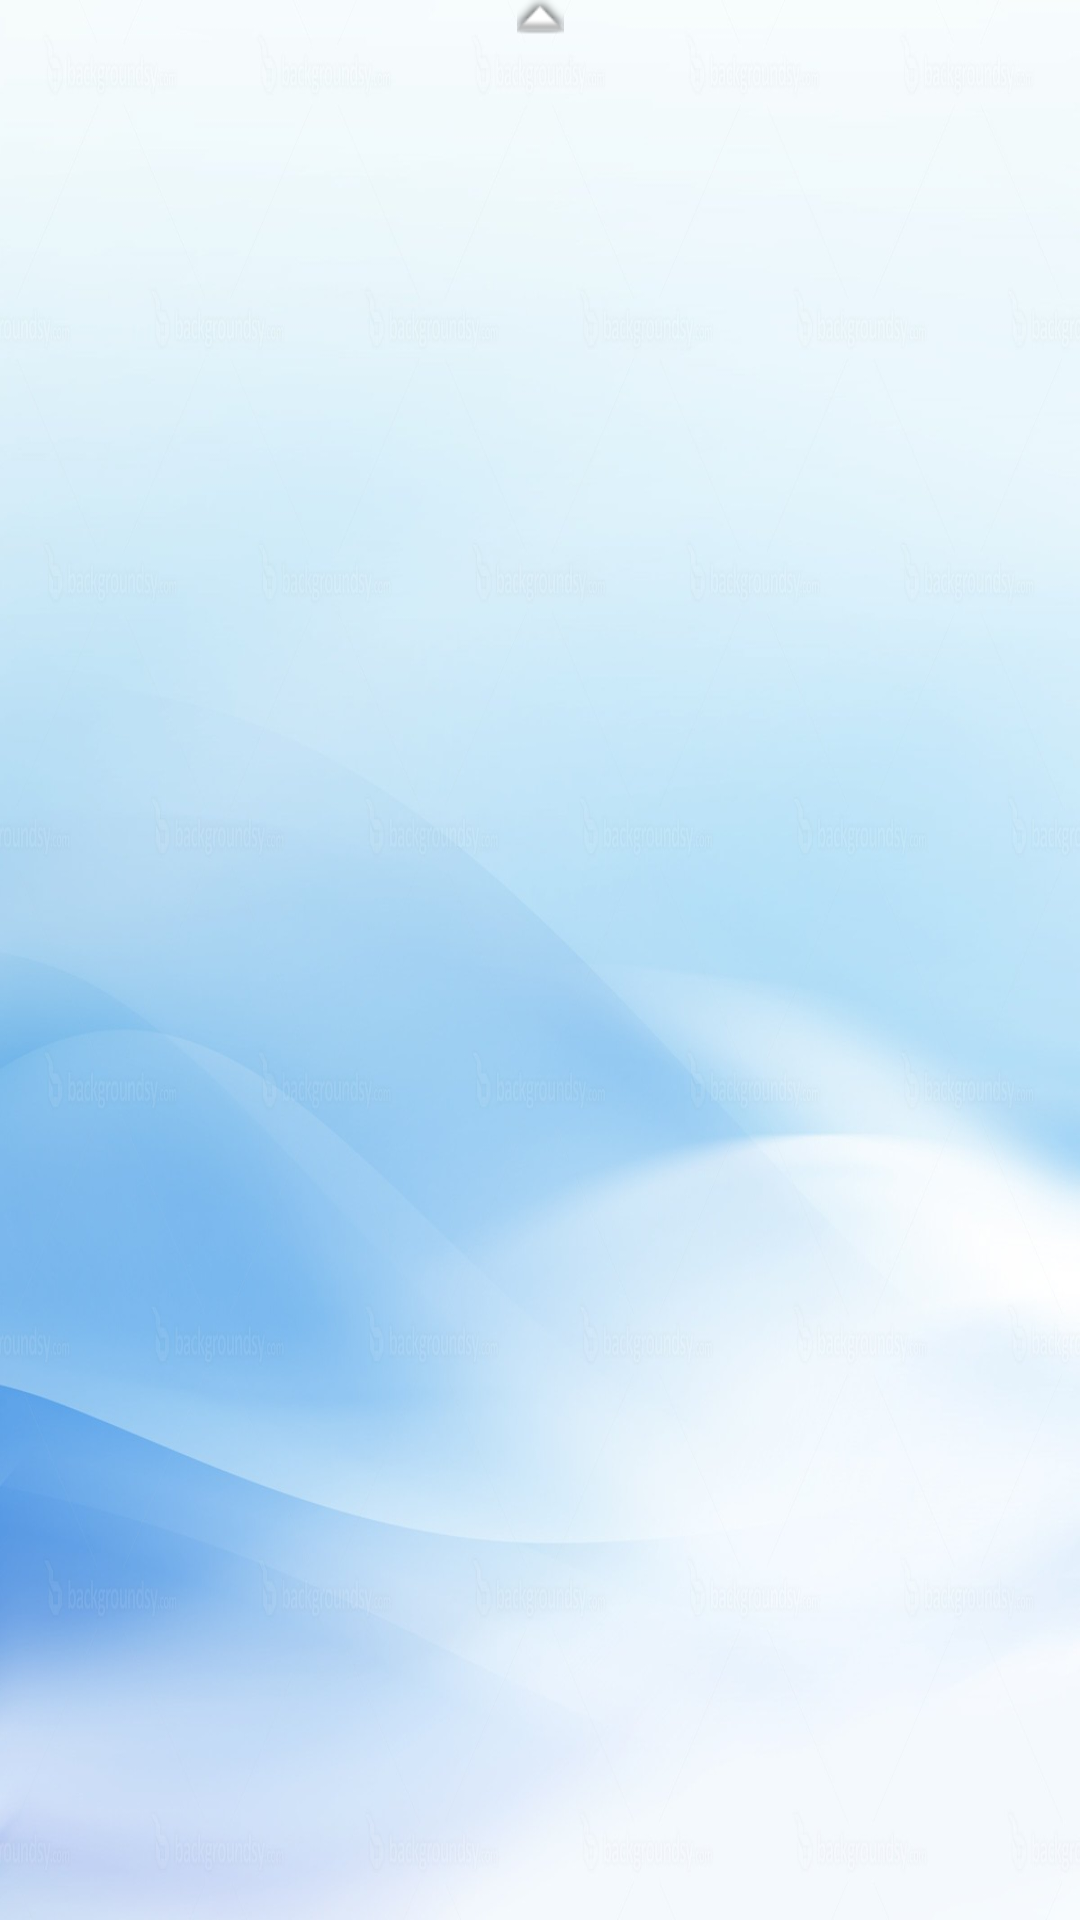

Screen size 1080x1920. Icon name, then its box in pixels as (x1, y1, x2, y2):
arrow up float: (517, 1, 564, 33)
